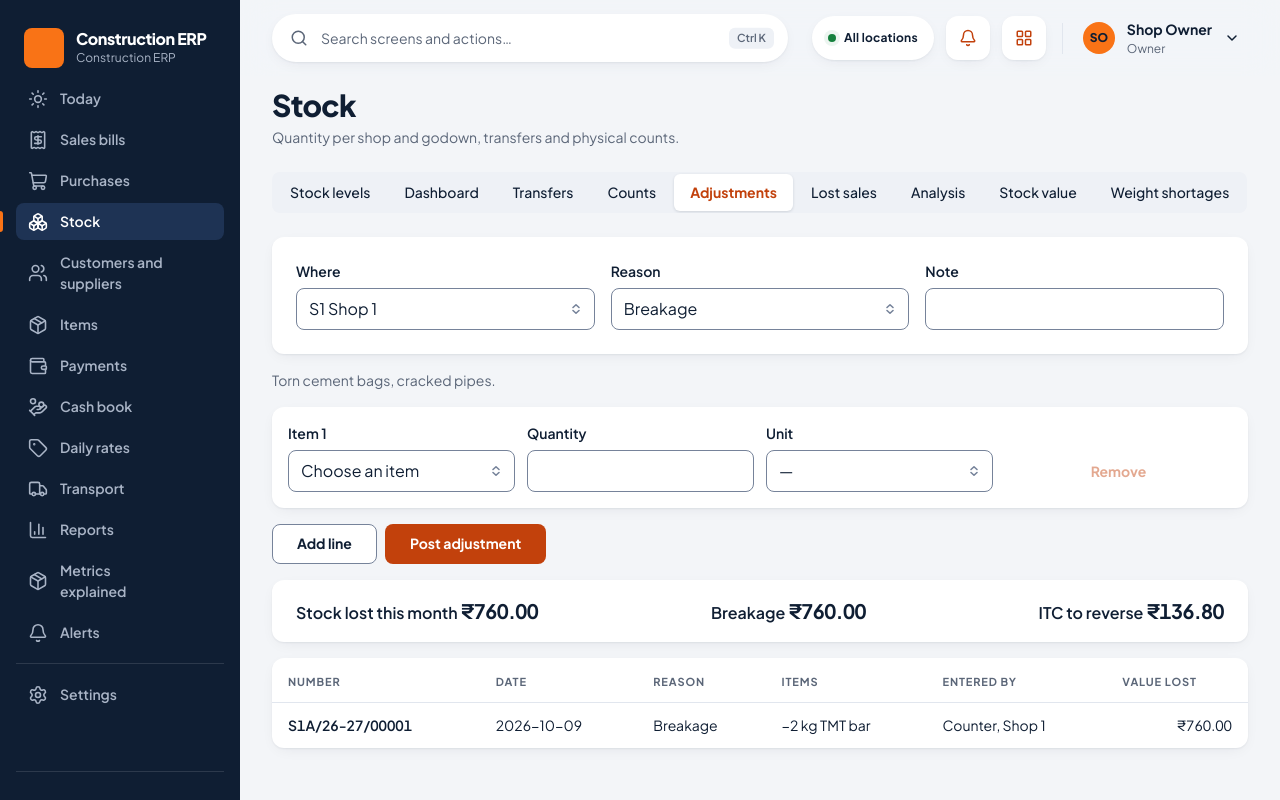
Stock adjustments › asks which way a count correction went
Select "Count correction" in the dropdown labelled "Reason" at x=760, y=308, box [611, 288, 909, 330]
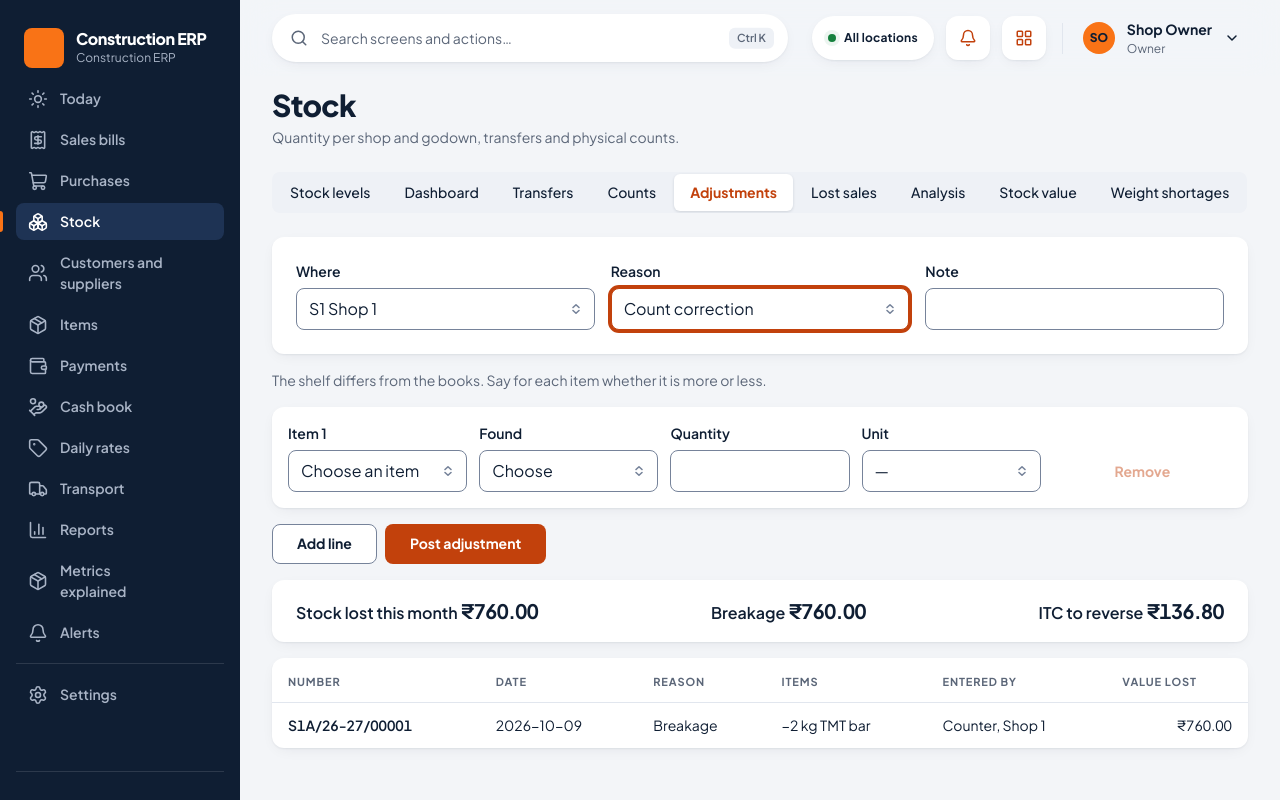
Select "TMT bar 12 mm Fe500D" in the dropdown labelled "Item 1" at x=378, y=470, box [288, 450, 467, 492]
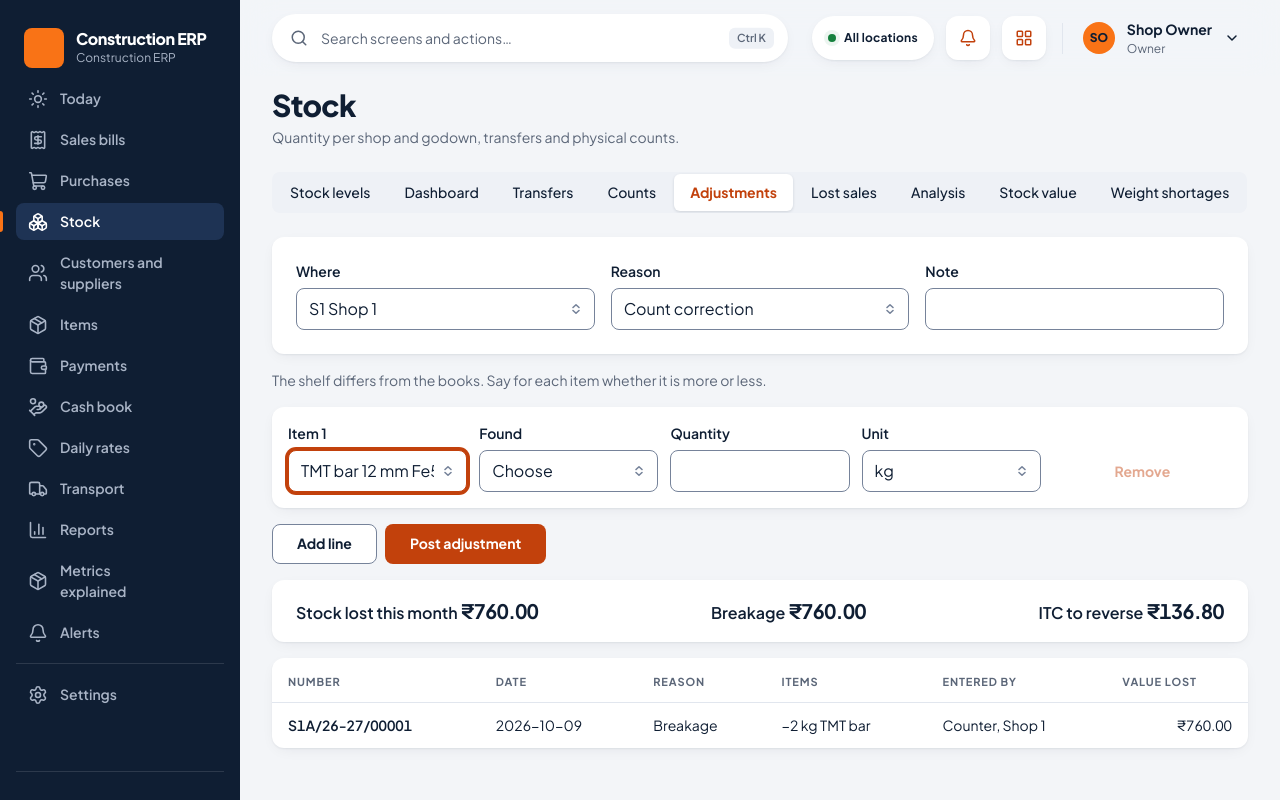
Type "5" into the field labelled "Quantity".
click(760, 470); type("5")  # box [670, 450, 850, 492]
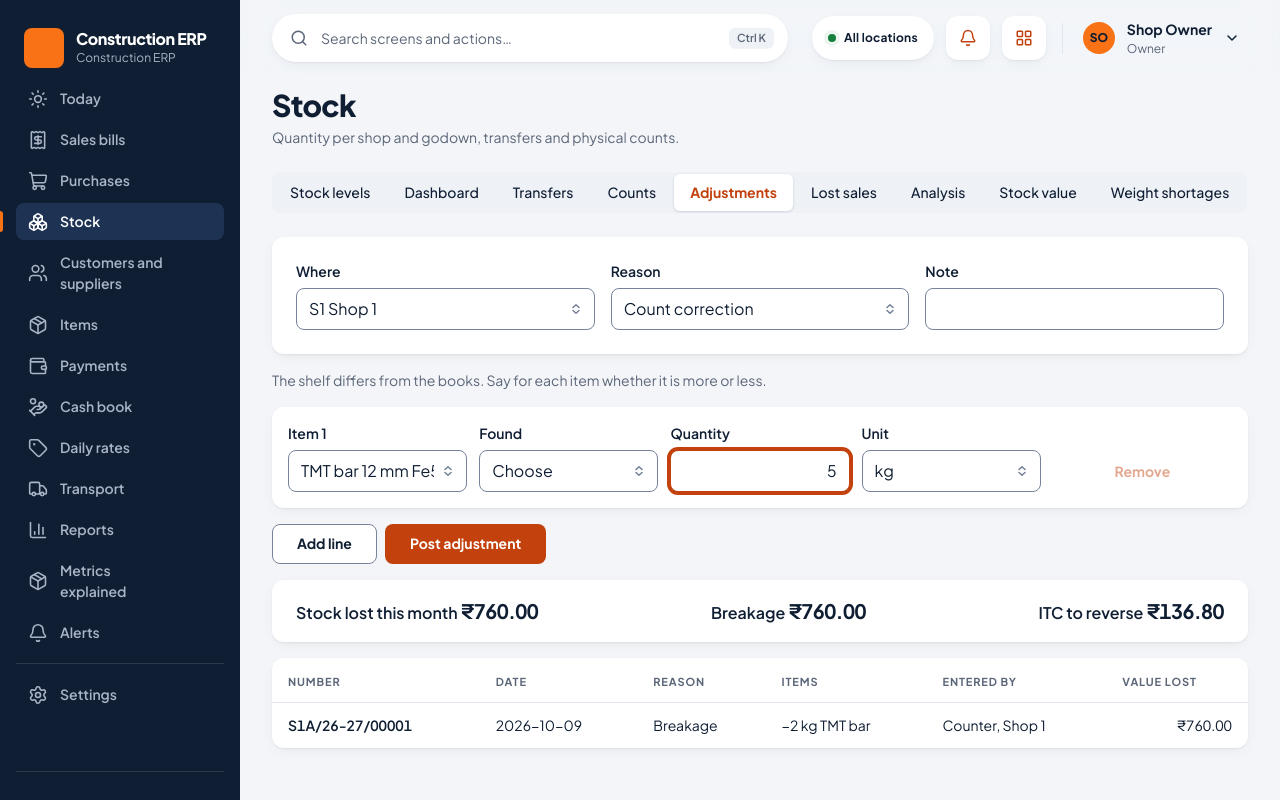
Click the button "Post adjustment".
click(466, 544)  # box [385, 524, 546, 564]
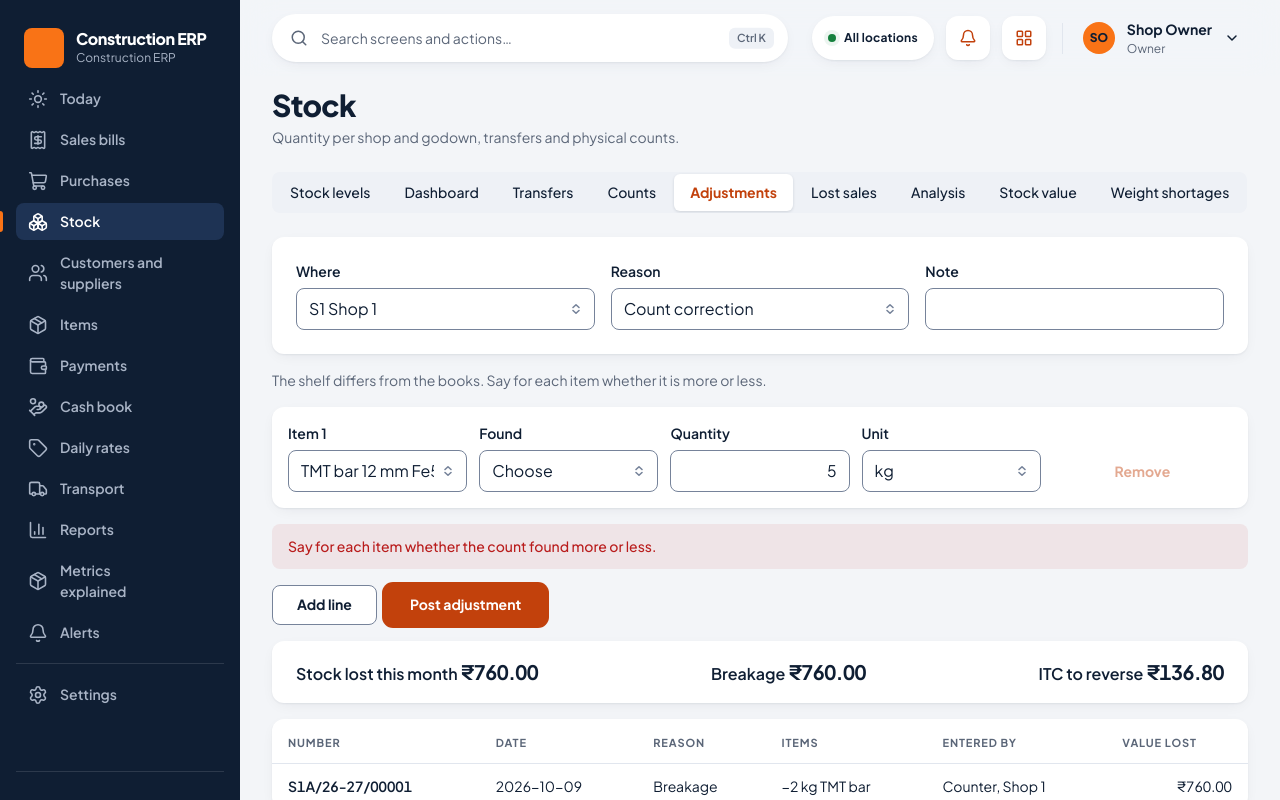
expect the text "Say for each item whether the count found more or less." is shown: met, box [272, 524, 1248, 568]
